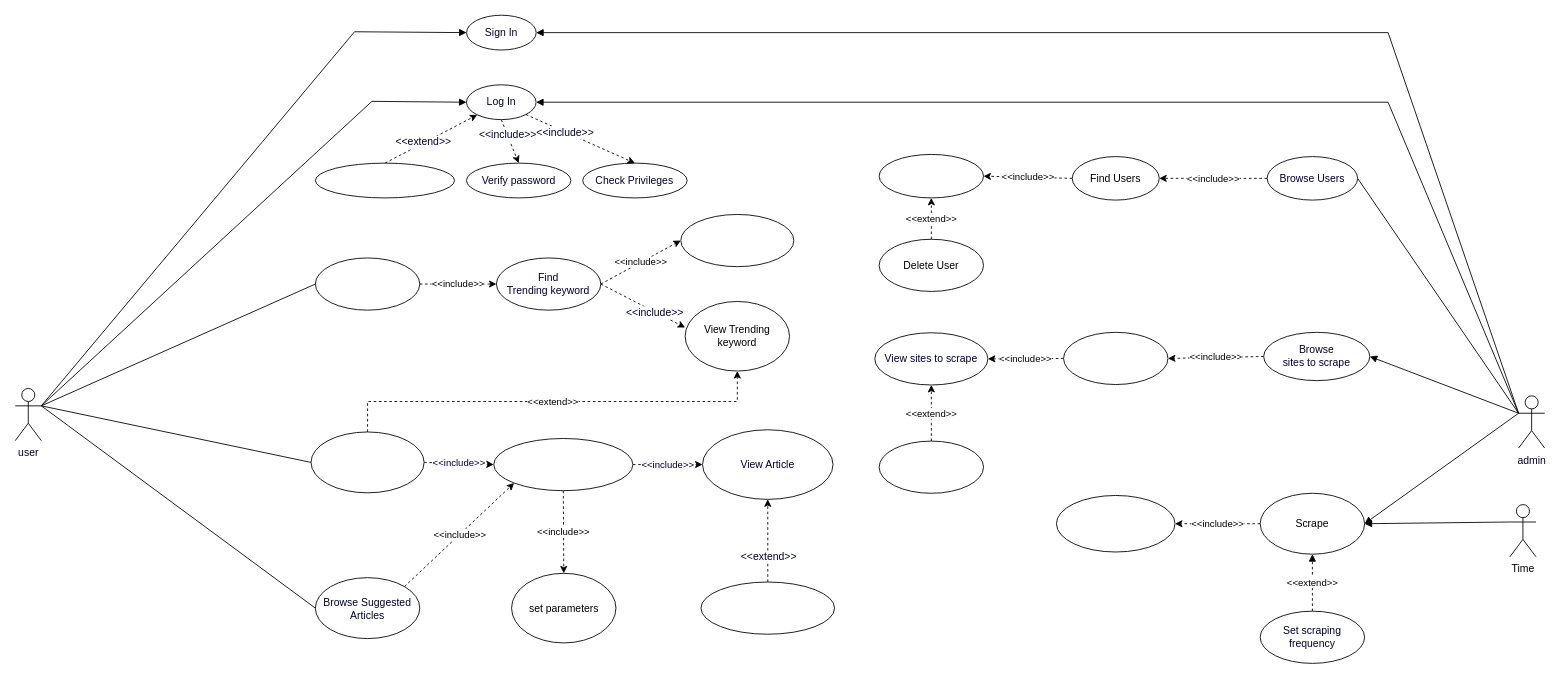
The diagram is 1561 pixels wide and 679 high, and some of its shapes have lost their labels. The centre of each missing label's shape, as x and y in pixels:
"Browse Articles" belongs at (367,462).
"Browse Trending keywords" belongs at (367,283).
"Compute article statistics" belongs at (1115,523).
"display login password" belongs at (385,180).
"Find articles" belongs at (563,464).
"Find sites to scrape" belongs at (1115,358).
"Open external link" belongs at (767,607).
"Select/Deselect site to scrape" belongs at (931,466).
"View Trends Charts" belongs at (737,240).
"View User" belongs at (931,176).
